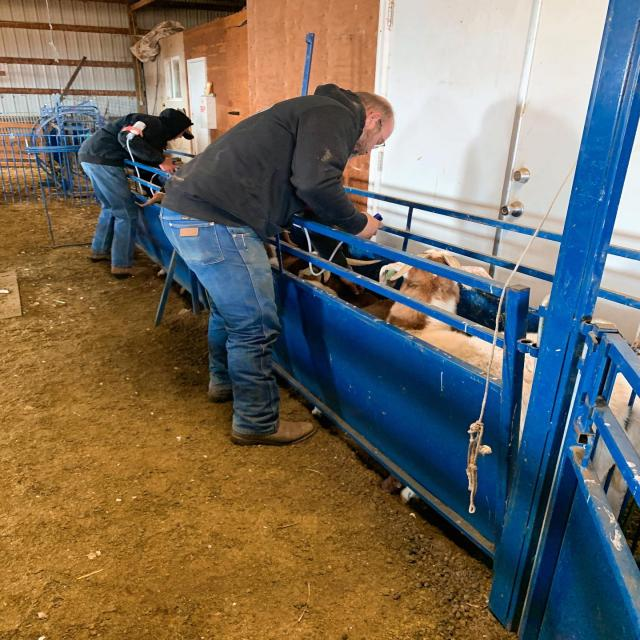goat: (379, 244, 584, 404)
